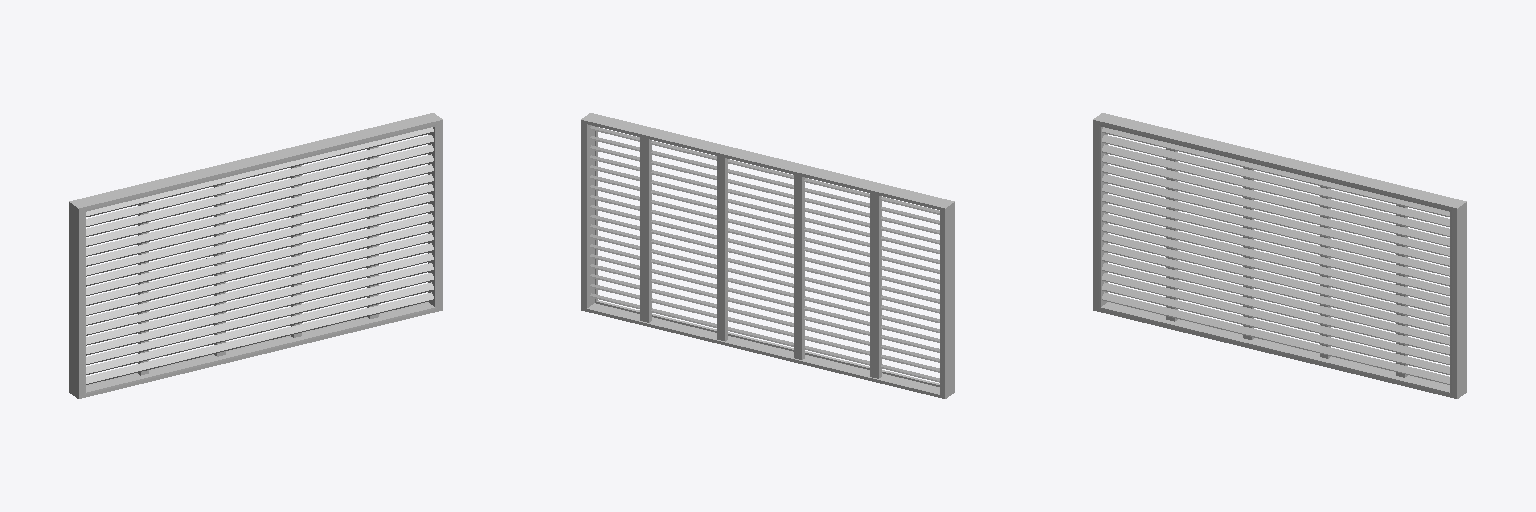
Rendered from panel4.OBJ.
3 views of the same model, side by side, from view 1: azimuth 30°, elevation 25°; view 2: azimuth 150°, elevation 25°; view 3: azimuth 330°, elevation 25° (orthographic).
Parts seen in each view (by area): view 1: Group16806; view 2: Group16806; view 3: Group16806.
Boxes of the visible parts, box(x1,y1,x2,y2) form: Group16806: box(69, 113, 442, 398); Group16806: box(581, 113, 954, 398); Group16806: box(1093, 113, 1466, 398).
Bounding box in the file's own units: 4.63 × 2.31 × 0.211.